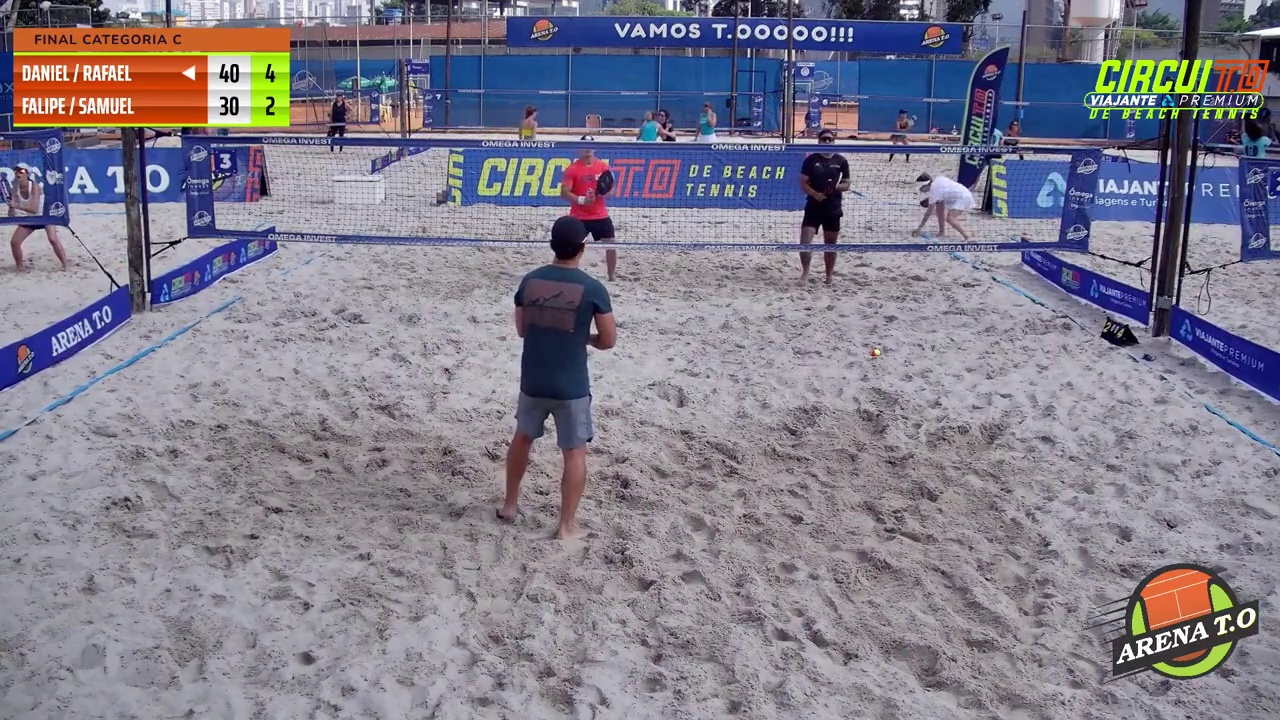court_line: (635, 0, 808, 364)
